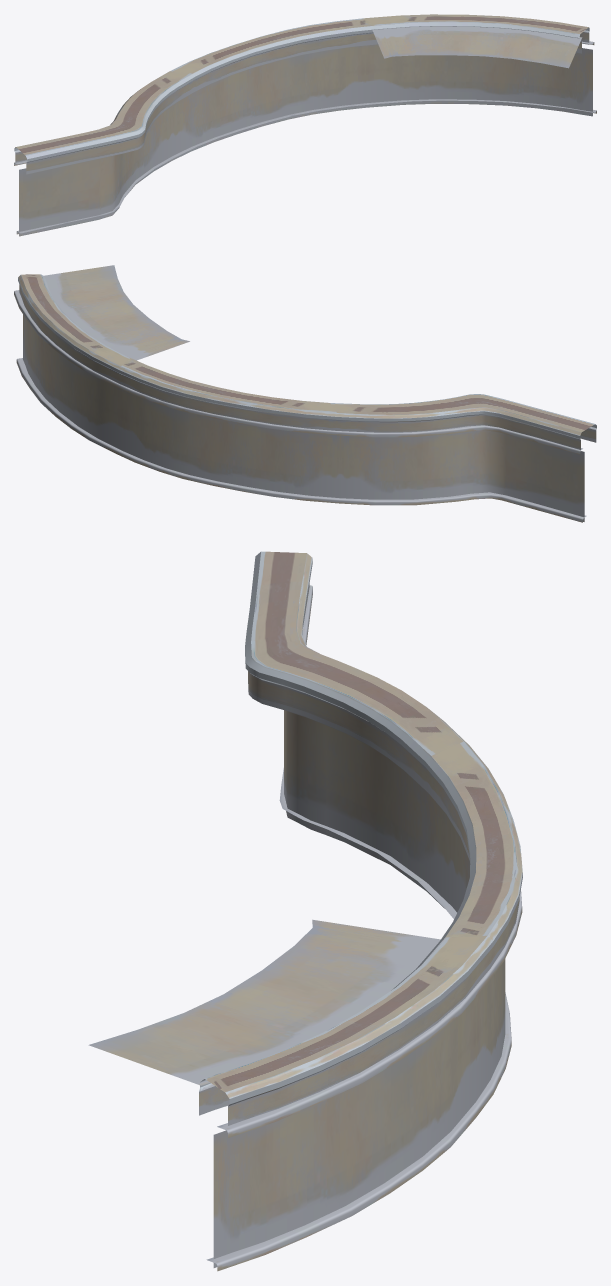
The model's file is pref_sm_beach_winter_techborn01_e_02_lv3.fbx.
3 views of the same model, one above another, from view 1: azimuth 30°, elevation 25°; view 2: azimuth 150°, elevation 25°; view 3: azimuth 270°, elevation 25° (orthographic). The views are drawn at different scales.
Parts seen in each view (by area): view 1: pref_sm_beach_winter_techborn01_e_02_lv3; view 2: pref_sm_beach_winter_techborn01_e_02_lv3; view 3: pref_sm_beach_winter_techborn01_e_02_lv3.
Part boxes in pixels (x1,y1,x2,y2): pref_sm_beach_winter_techborn01_e_02_lv3: [14, 14, 596, 236]; pref_sm_beach_winter_techborn01_e_02_lv3: [14, 265, 596, 522]; pref_sm_beach_winter_techborn01_e_02_lv3: [88, 551, 522, 1271].
Size of the model in its own units: 21.54 by 3.21 by 7.23.
